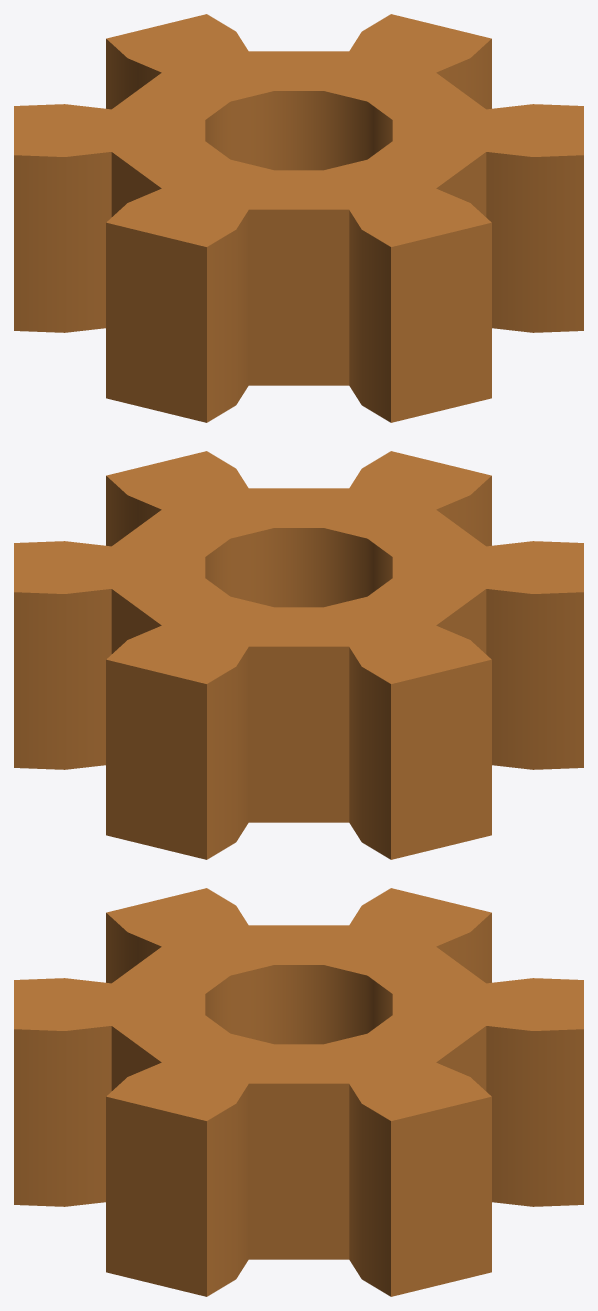
File: small_gear.fbx
3 views of the same model, one above another, from view 1: azimuth 30°, elevation 25°; view 2: azimuth 150°, elevation 25°; view 3: azimuth 270°, elevation 25° (orthographic).
Visible parts, largest first — view 1: Gear_Small_01; view 2: Gear_Small_01; view 3: Gear_Small_01.
Boxes of the visible parts, box(x1,y1,x2,y2) form: Gear_Small_01: box(14, 14, 583, 422); Gear_Small_01: box(14, 451, 583, 859); Gear_Small_01: box(14, 888, 583, 1296).
Bounding box in the file's own units: 234 × 82.38 × 242.
